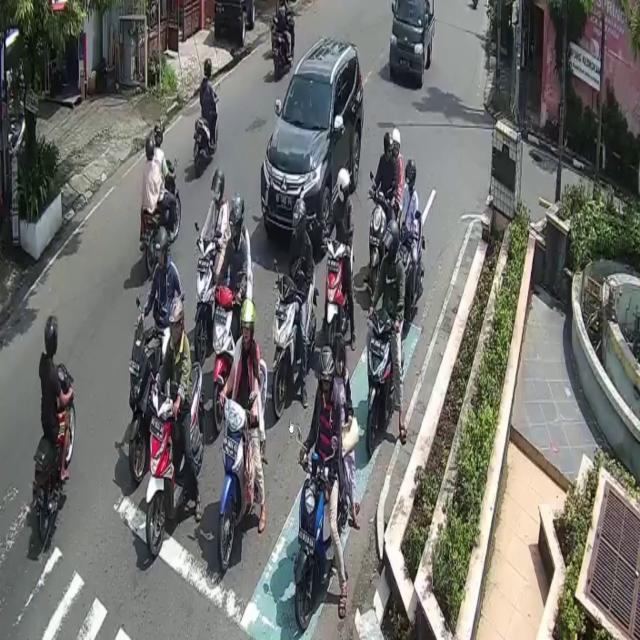bus: (147, 360, 203, 562), (220, 356, 268, 562), (31, 364, 76, 545), (272, 264, 316, 432), (128, 321, 162, 487), (300, 450, 331, 631), (141, 161, 182, 277), (365, 307, 394, 459), (194, 226, 216, 357), (327, 240, 352, 349), (193, 86, 218, 172)
motorcycle: (261, 38, 363, 250), (390, 0, 435, 88)
